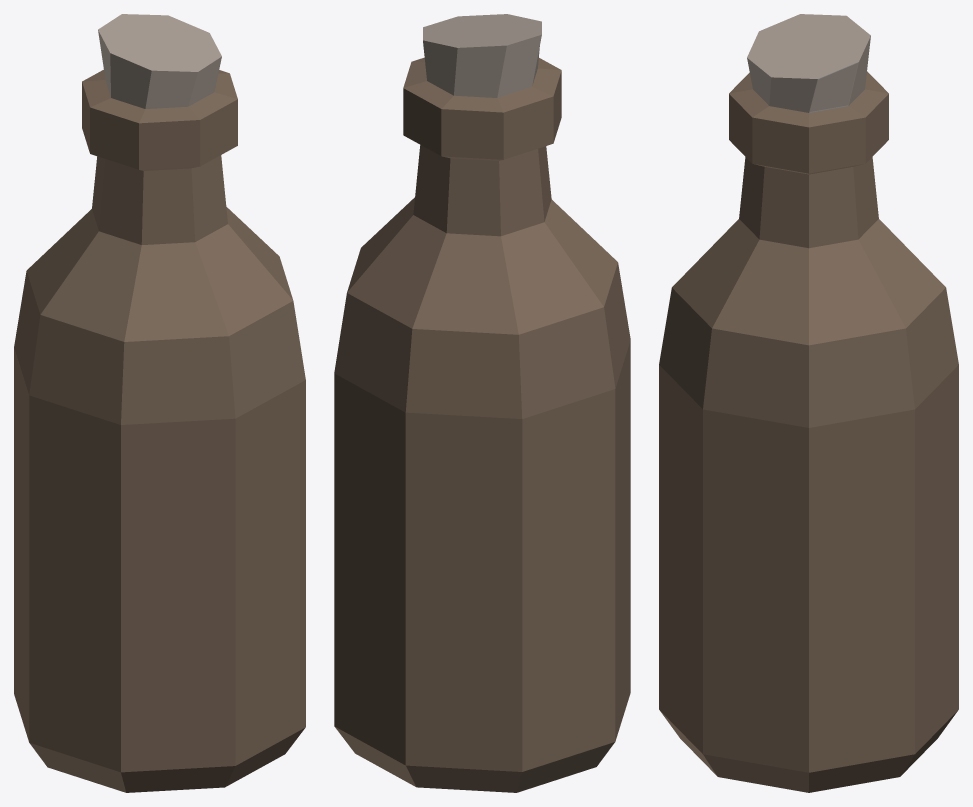
File: Bottle_01.fbx
The picture shows the model from 3 angles, left to right: view 1: azimuth 30°, elevation 25°; view 2: azimuth 150°, elevation 25°; view 3: azimuth 270°, elevation 25°; orthographic projection. The views are drawn at different scales.
Parts seen in each view (by area): view 1: Bottle_01; view 2: Bottle_01; view 3: Bottle_01.
Part boxes in pixels (box(x1,y1,x2,y2)): Bottle_01: box(14, 14, 305, 792); Bottle_01: box(334, 14, 630, 792); Bottle_01: box(659, 14, 958, 792).
Bounding box in the file's own units: 1.29 × 3.32 × 1.29.
